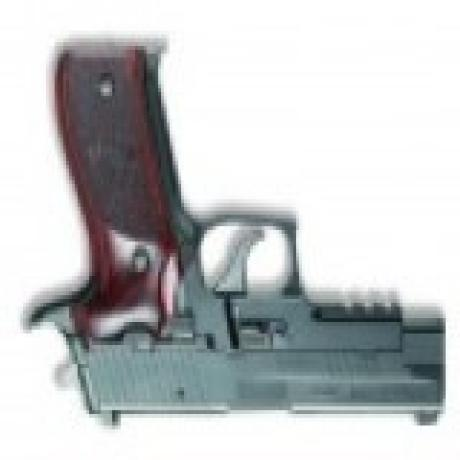weapon: (17, 36, 449, 431)
